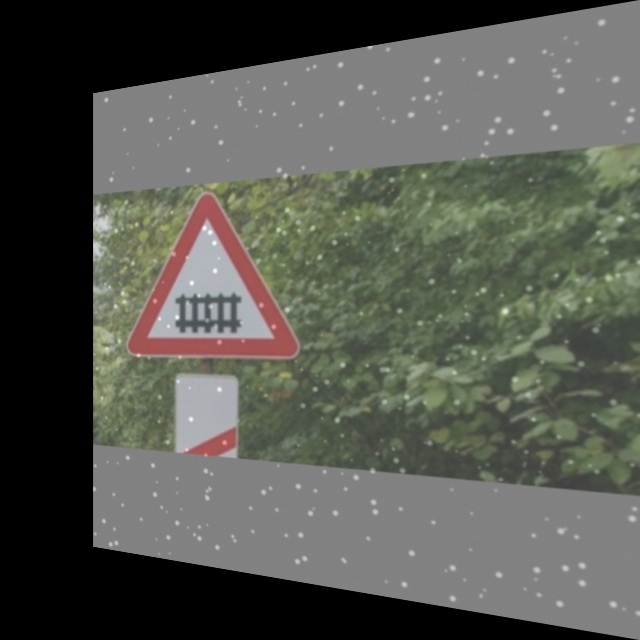Guarded_Level_Crossing: (129, 191, 294, 357)
